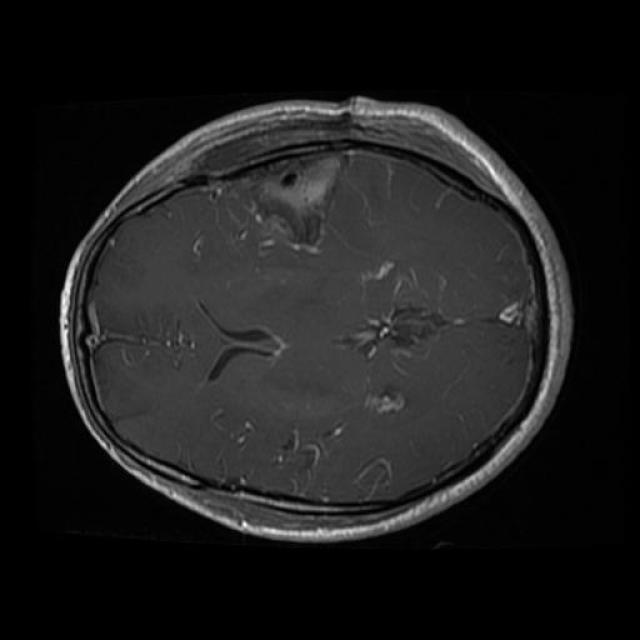Glioma: (194, 113, 343, 247)
